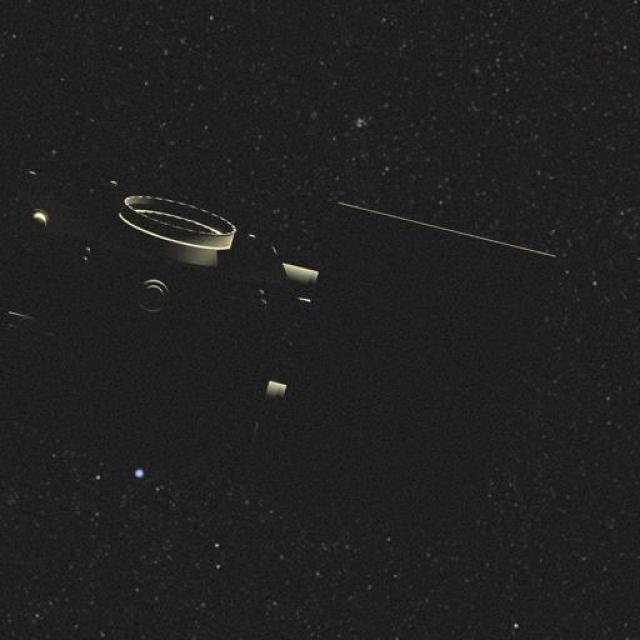proba_3_csc: (0, 158, 504, 438)
